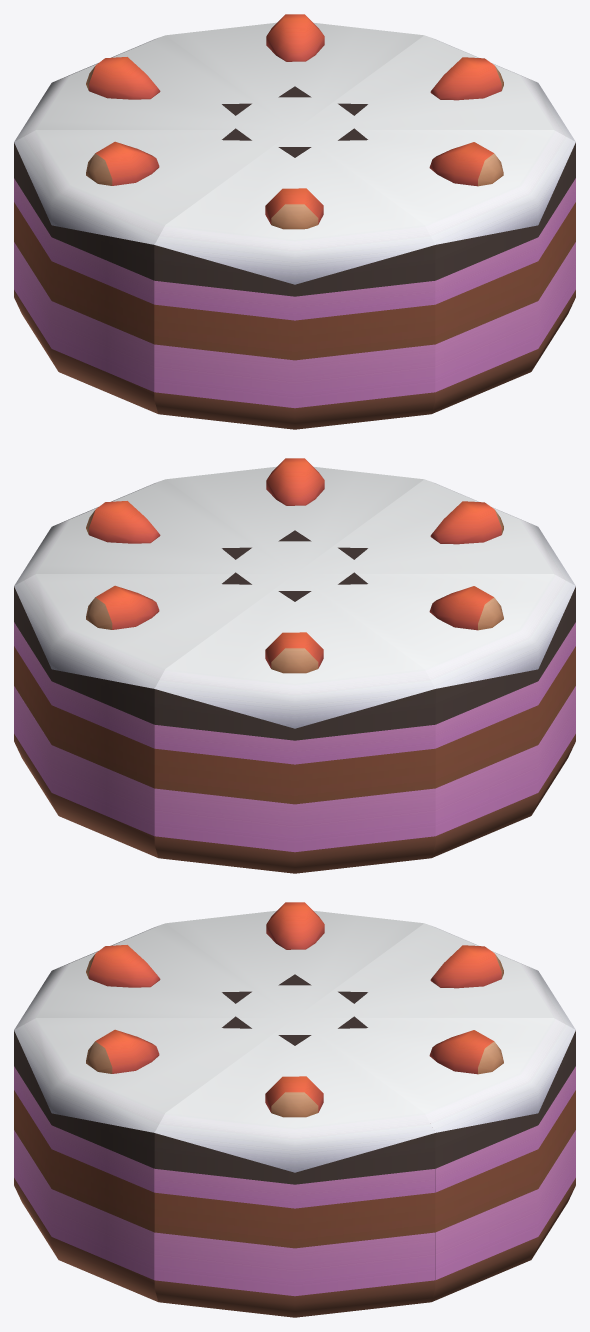
Rendered from food-cake.glb.
3 views of the same model, one above another, from view 1: azimuth 30°, elevation 25°; view 2: azimuth 150°, elevation 25°; view 3: azimuth 270°, elevation 25° (orthographic).
Visible parts, largest first — view 1: slice; view 2: slice; view 3: slice.
Part boxes in pixels (x1=…): slice: x1=14, y1=14, x2=575, y2=429; slice: x1=14, y1=458, x2=575, y2=873; slice: x1=14, y1=902, x2=575, y2=1317.
Bounding box in the file's own units: 0.6392 × 0.273 × 0.6392.
1 material, 1 textured.
